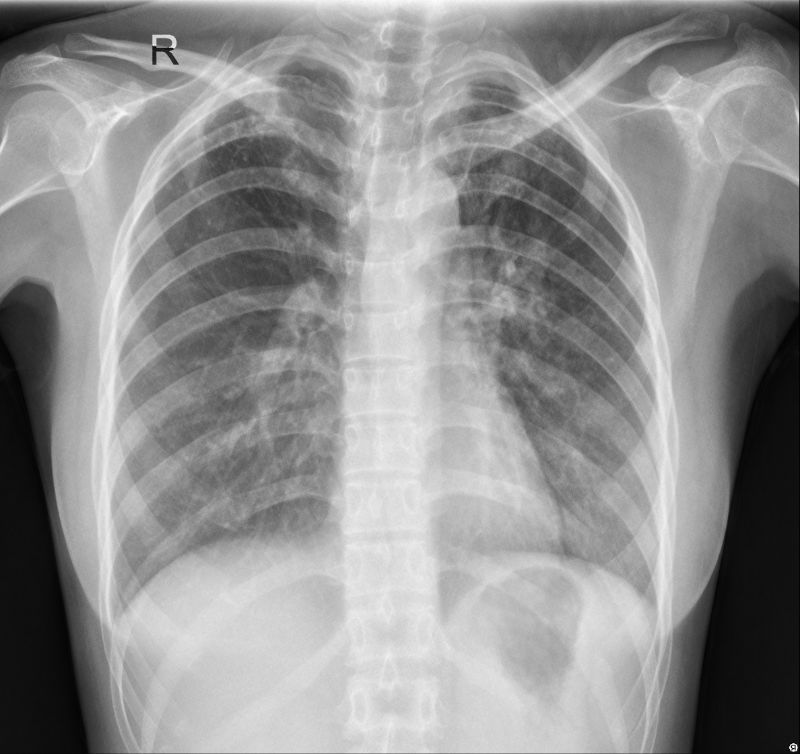Tuberculosis (TB): (479, 124, 568, 312), (225, 77, 308, 196)
